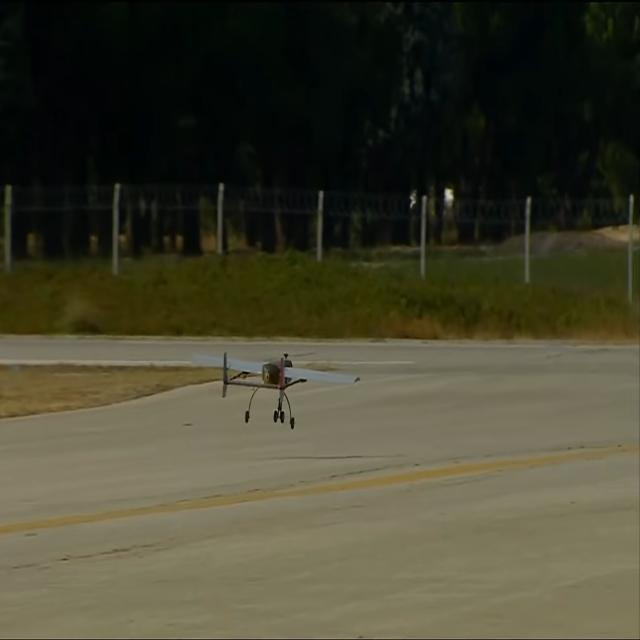iha: (188, 382, 361, 388)
